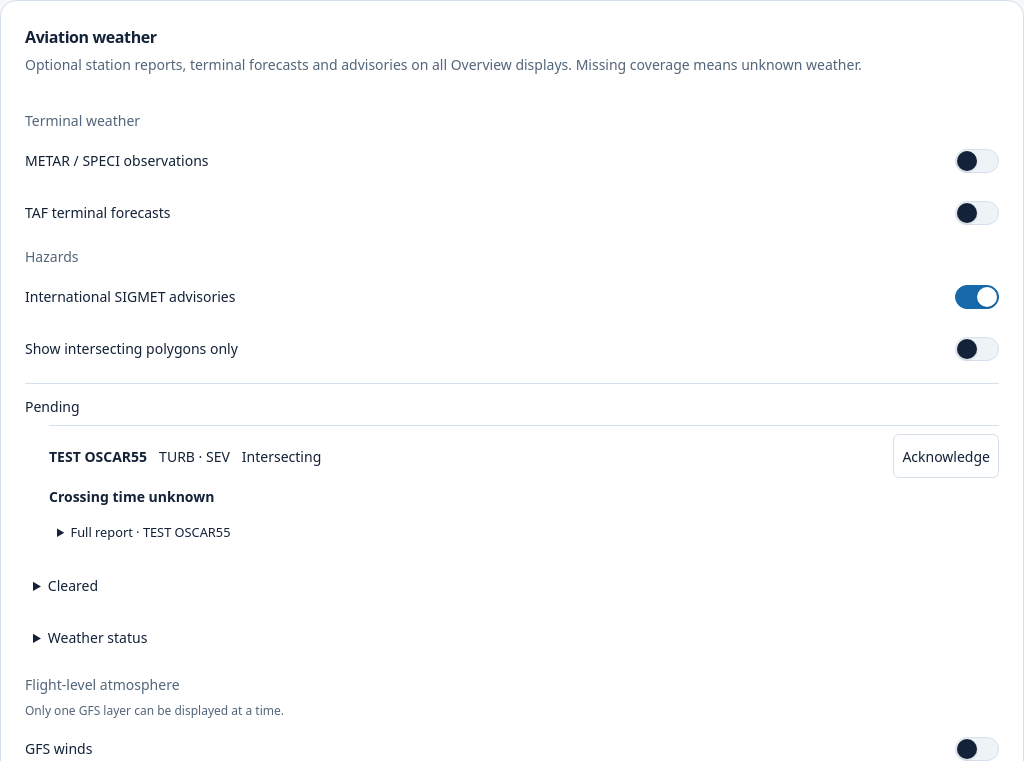
it: keeps identity bookkeeping out of flight details while acknowledging the canonical bulletin
This screenshot has width=1024, height=761.
Click the button with aria-label "Clear advisory". click: [946, 456]
box: x1=893 y1=434 x2=999 y2=478
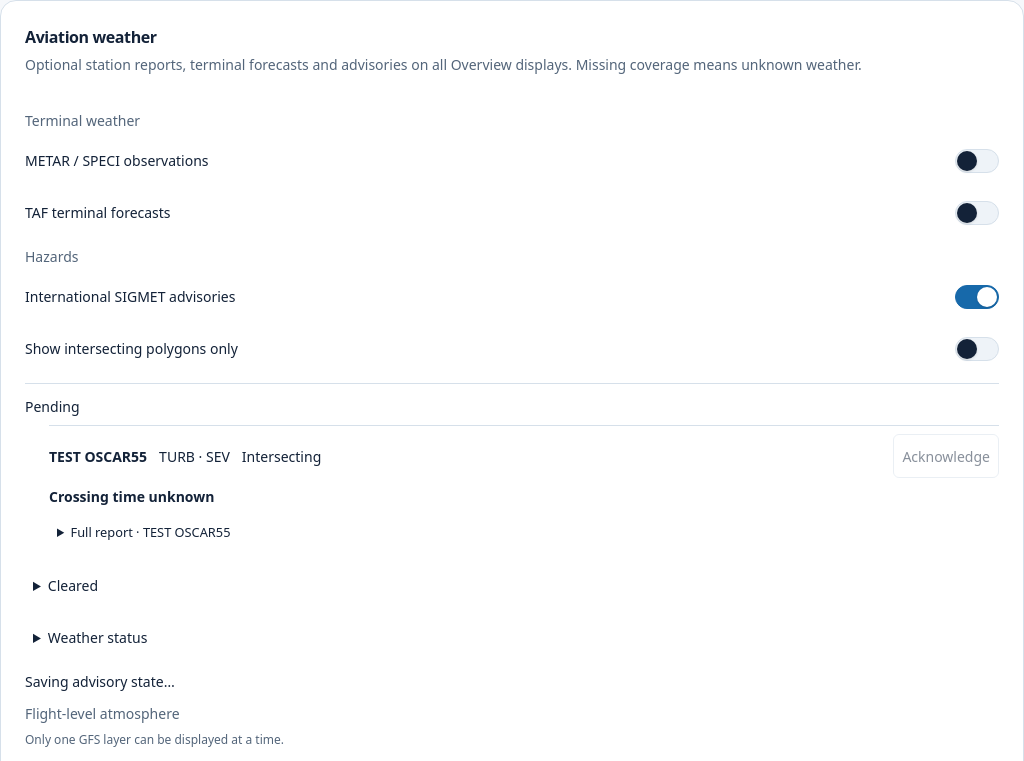
Click the heading "Cleared". click: [73, 586]
box: x1=48 y1=576 x2=98 y2=595
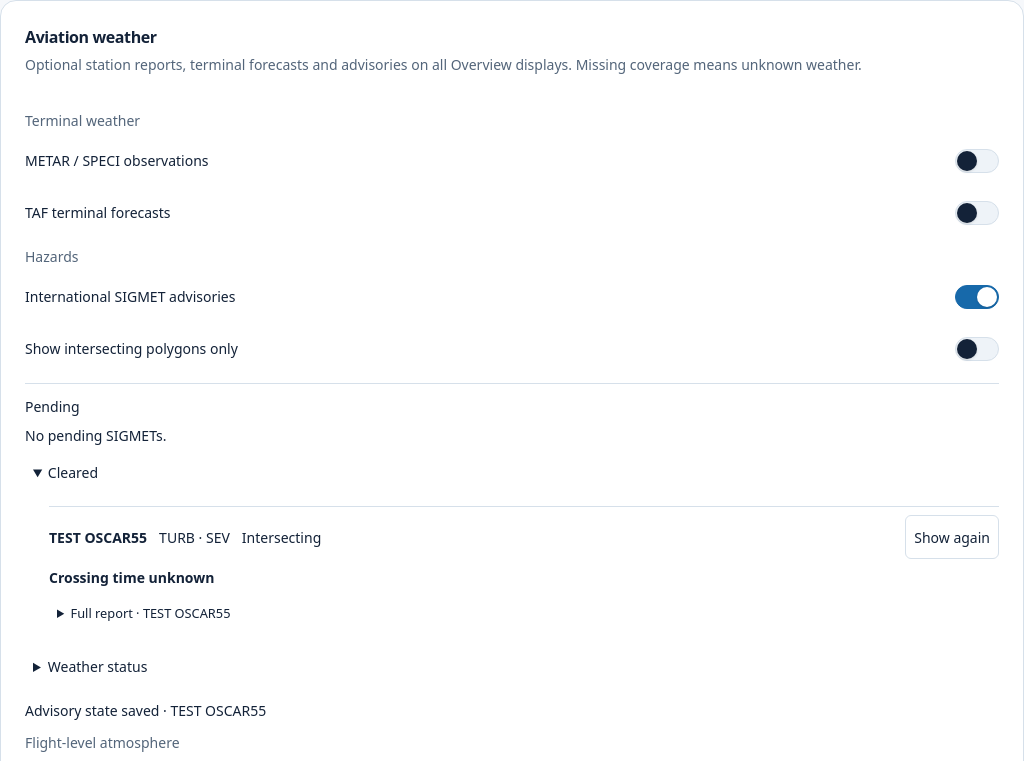
Expected: the button "Show again" is shown, x1=905 y1=515 x2=999 y2=559
